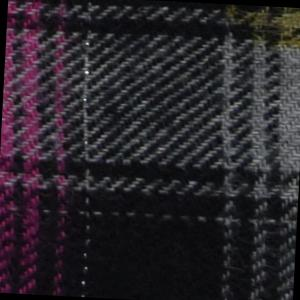Stain: (217, 4, 300, 56)
